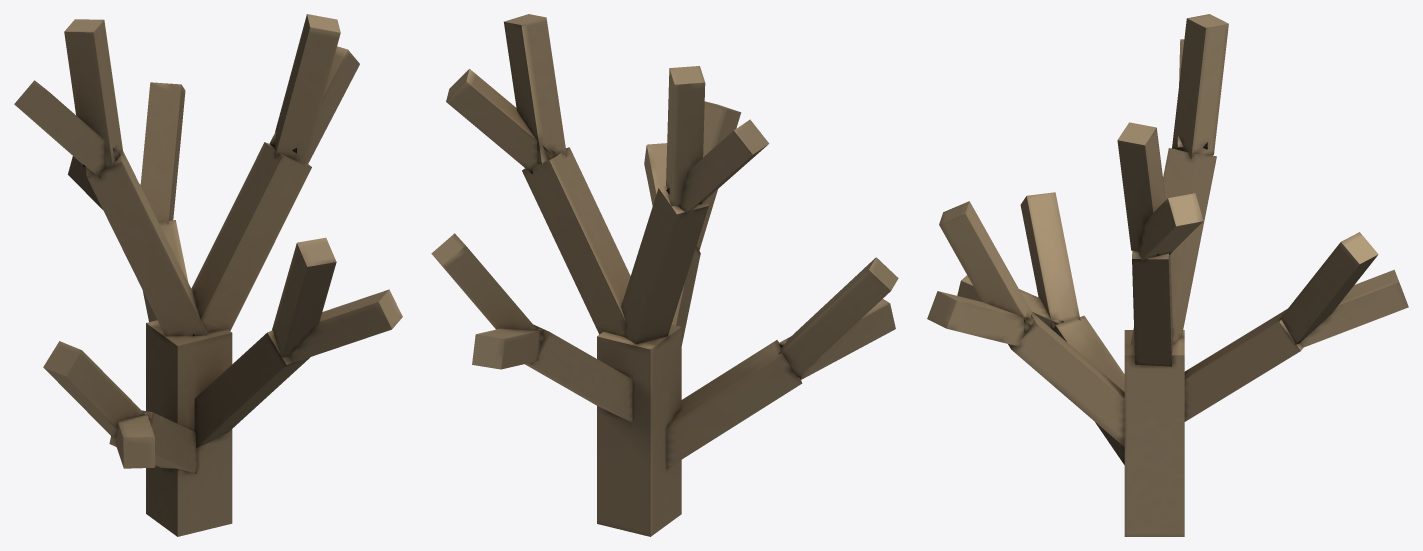
File: deadbush.glb
3 renders of one model, left to right at view 1: azimuth 30°, elevation 25°; view 2: azimuth 150°, elevation 25°; view 3: azimuth 270°, elevation 25°, orthographic. The views are drawn at different scales.
Parts seen in each view (by area): view 1: deadbush; view 2: deadbush; view 3: deadbush.
Boxes of the visible parts, x1=… form: deadbush: x1=14, y1=14, x2=402, y2=536; deadbush: x1=431, y1=14, x2=898, y2=536; deadbush: x1=927, y1=14, x2=1408, y2=536.
Bounding box in the file's own units: 0.6308 × 0.7752 × 0.721.
1 material, 1 textured.
